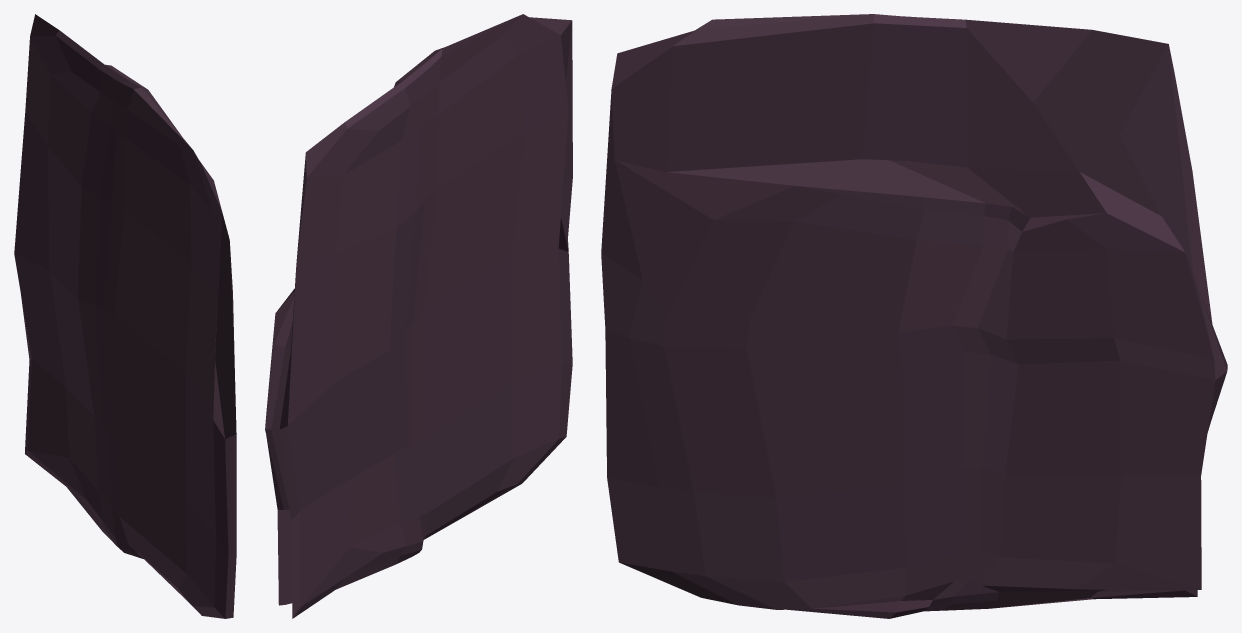
Rendered from wall3_2.fbx.
3 renders of one model, left to right at view 1: azimuth 30°, elevation 25°; view 2: azimuth 150°, elevation 25°; view 3: azimuth 270°, elevation 25°, orthographic. The views are drawn at different scales.
Visible parts, largest first — view 1: Cube.1148; view 2: Cube.1148; view 3: Cube.1148.
Boxes of the visible parts, bbox=[...] form: Cube.1148: bbox=[14, 14, 236, 618]; Cube.1148: bbox=[265, 14, 572, 618]; Cube.1148: bbox=[601, 14, 1227, 618].
Bounding box in the file's own units: 225 × 1700 × 1630.
